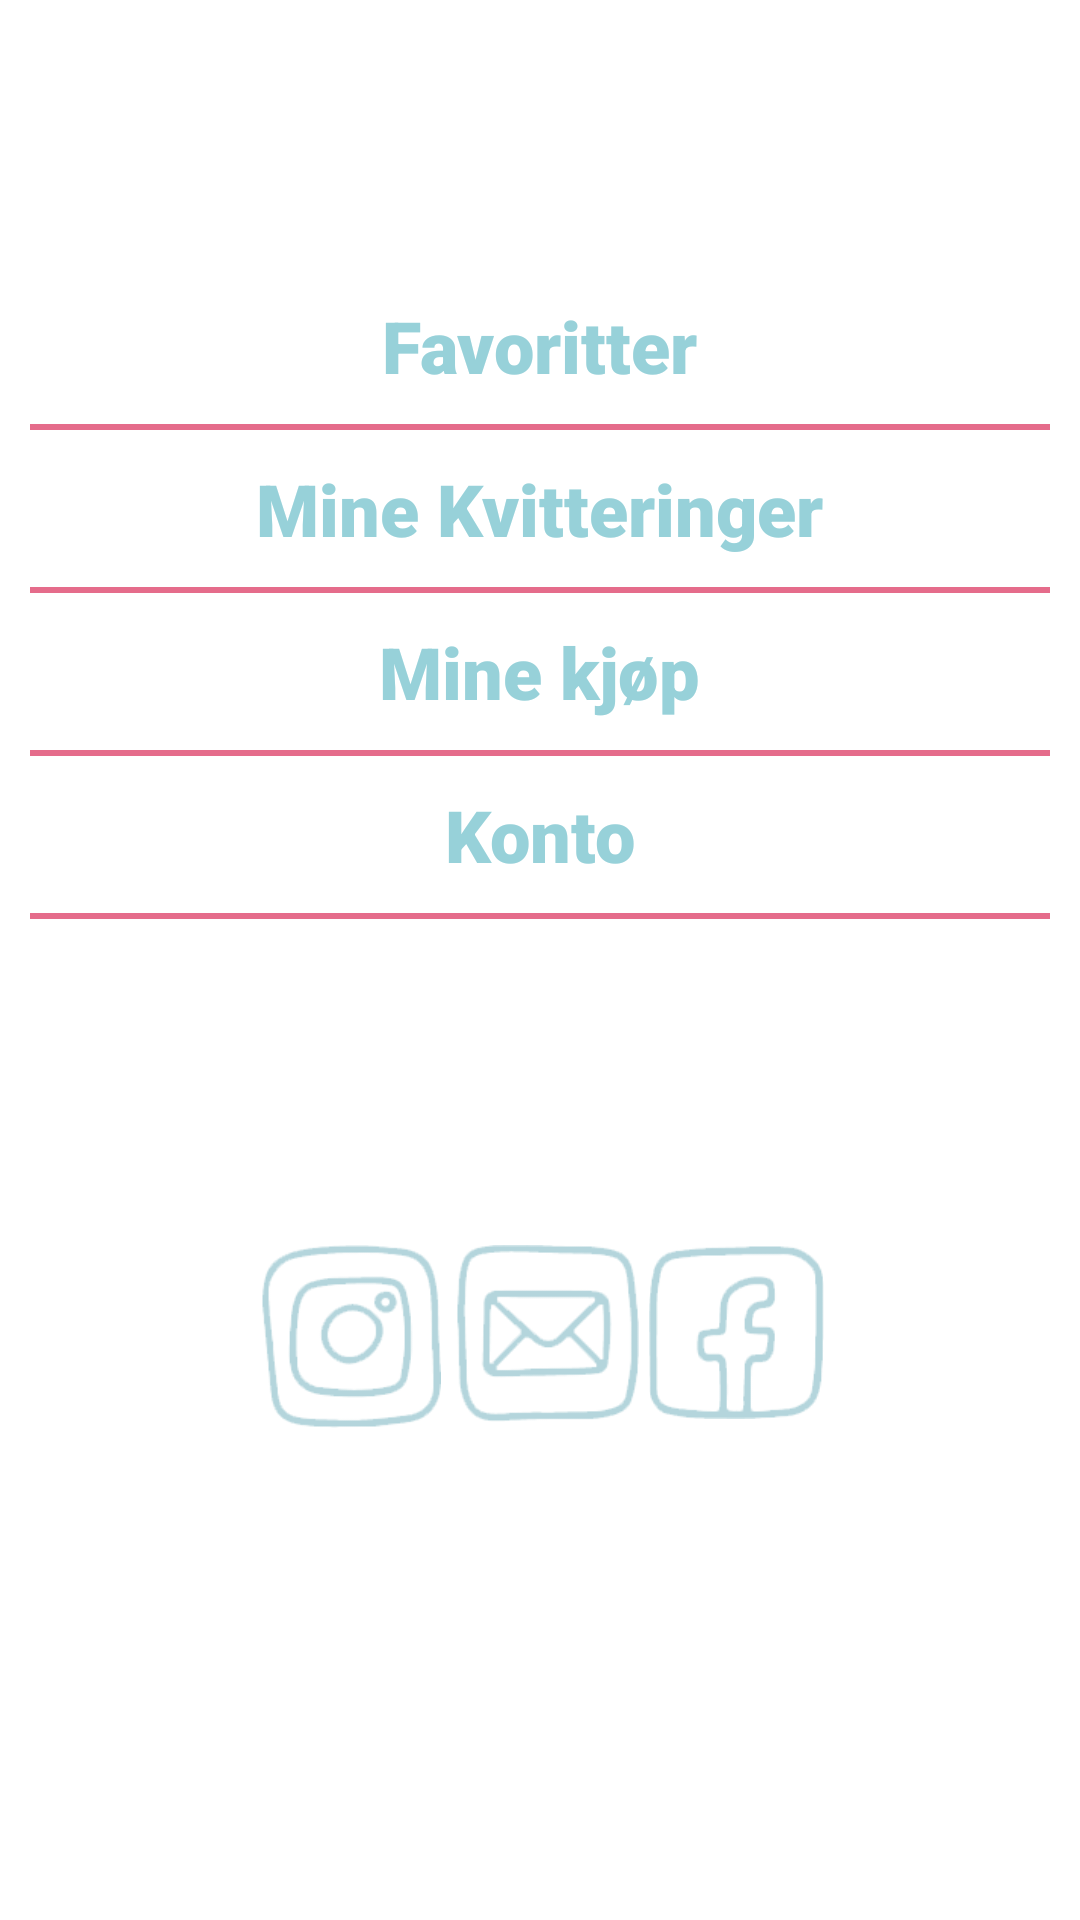

Where to tap for icons on this 1080w x 1920h app screen, as (x,y):
fris some mail: (548,1333)
